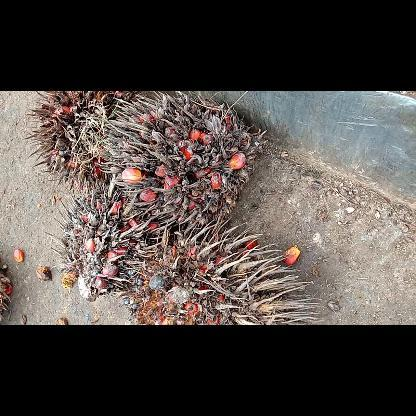Terlalu masak: (96, 90, 270, 233), (121, 210, 327, 324), (44, 176, 176, 304), (20, 91, 148, 190)
